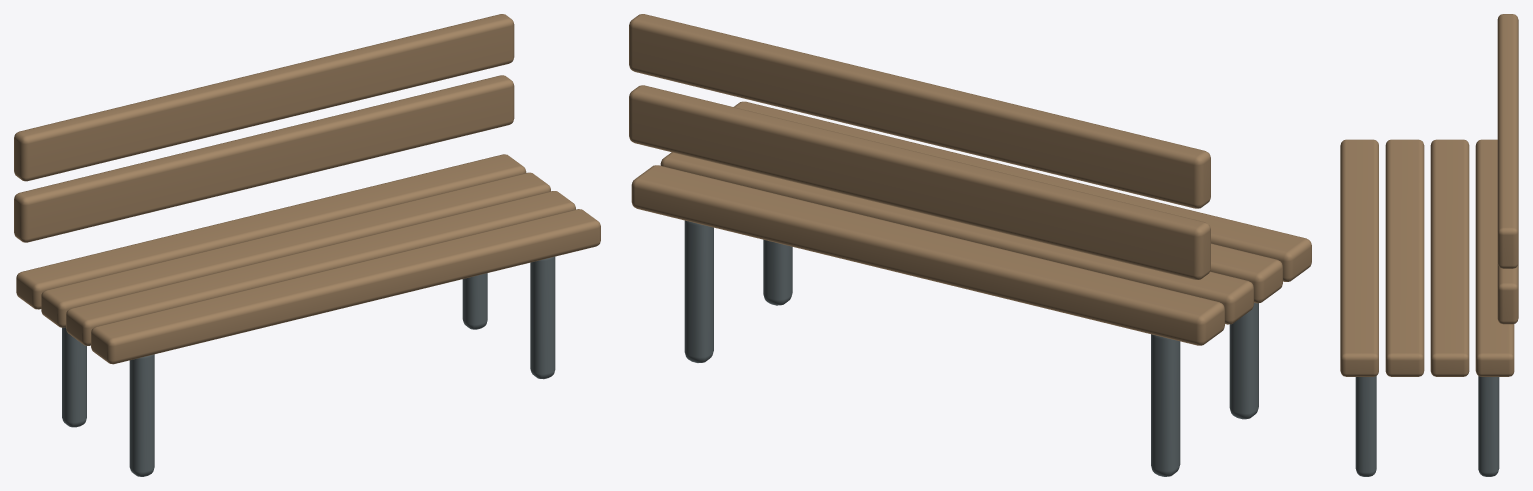
File: CampusBench.fbx
3 views of the same model, side by side, from view 1: azimuth 30°, elevation 25°; view 2: azimuth 150°, elevation 25°; view 3: azimuth 270°, elevation 25° (orthographic). The views are drawn at different scales.
Parts seen in each view (by area): view 1: Timber backrest, Timber backrest.001, Timber seat, Timber seat.003, Timber seat.002, Timber seat.001, Bench foot, Bench foot.002, Bench foot.001, Bench foot.003; view 2: Timber backrest.001, Timber backrest, Timber seat.003, Timber seat.002, Timber seat, Bench foot.003, Bench foot.001, Bench foot, Timber seat.001, Bench foot.002; view 3: Timber seat.001, Timber seat.002, Timber seat, Timber seat.003, Timber backrest.001, Bench foot.002, Bench foot.003, Timber backrest.
Boxes of the visible parts, left/top/right/bottom form: Timber backrest: left=14, top=75, right=514, bottom=242; Timber backrest.001: left=14, top=14, right=514, bottom=181; Timber seat: left=91, top=209, right=600, bottom=364; Timber seat.003: left=16, top=154, right=526, bottom=309; Timber seat.002: left=41, top=172, right=550, bottom=327; Timber seat.001: left=66, top=191, right=575, bottom=345; Bench foot: left=129, top=354, right=154, bottom=476; Bench foot.002: left=530, top=256, right=555, bottom=379; Bench foot.001: left=62, top=327, right=86, bottom=427; Bench foot.003: left=462, top=273, right=487, bottom=329; Timber backrest.001: left=629, top=14, right=1210, bottom=208; Timber backrest: left=629, top=85, right=1210, bottom=279; Timber seat.003: left=631, top=165, right=1224, bottom=345; Timber seat.002: left=660, top=152, right=1253, bottom=324; Timber seat: left=734, top=101, right=1311, bottom=281; Bench foot.003: left=684, top=220, right=713, bottom=362; Bench foot.001: left=1151, top=334, right=1180, bottom=476; Bench foot: left=1229, top=303, right=1258, bottom=419; Timber seat.001: left=1210, top=243, right=1282, bottom=303; Bench foot.002: left=763, top=239, right=792, bottom=305; Timber seat.001: left=1385, top=139, right=1424, bottom=376; Timber seat.002: left=1430, top=139, right=1469, bottom=376; Timber seat: left=1340, top=139, right=1378, bottom=376; Timber seat.003: left=1475, top=139, right=1514, bottom=376; Timber backrest.001: left=1497, top=14, right=1518, bottom=268; Bench foot.002: left=1355, top=376, right=1376, bottom=476; Bench foot.003: left=1478, top=376, right=1499, bottom=476; Timber backrest: left=1497, top=263, right=1518, bottom=324.
Bounding box in the file's own units: 160 × 91 × 55.25.
